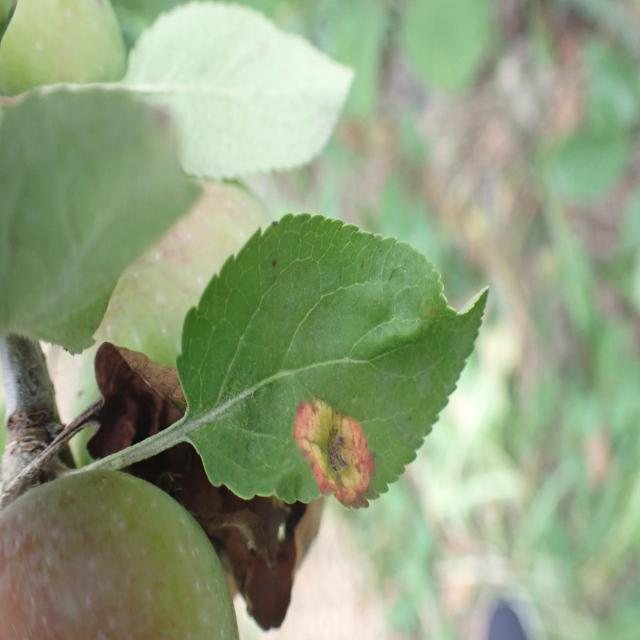Rust: (290, 394, 387, 525)
